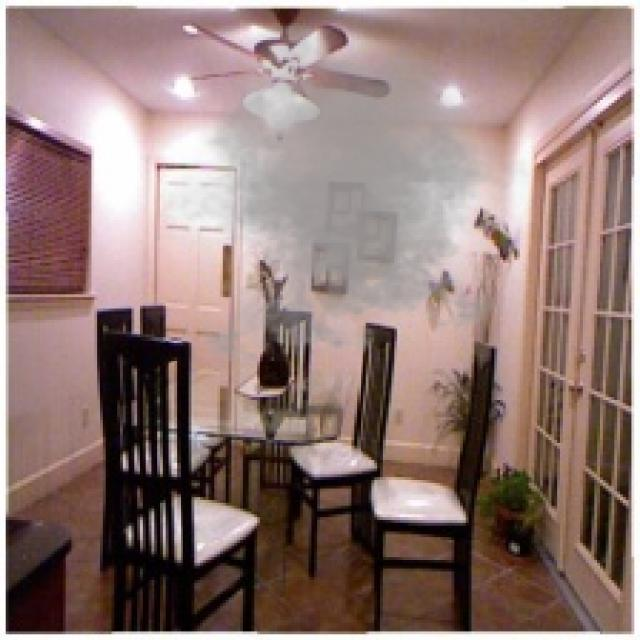Smoke: (140, 17, 554, 374)
